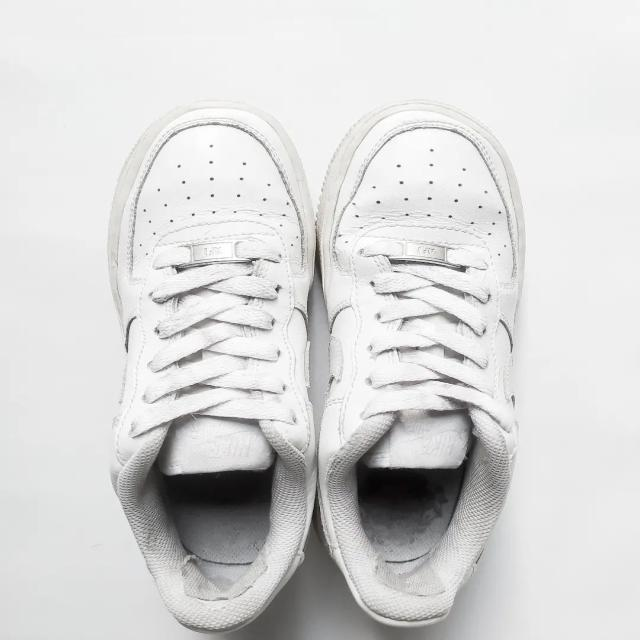nike fake air force: (316, 93, 538, 634), (103, 95, 324, 634)
